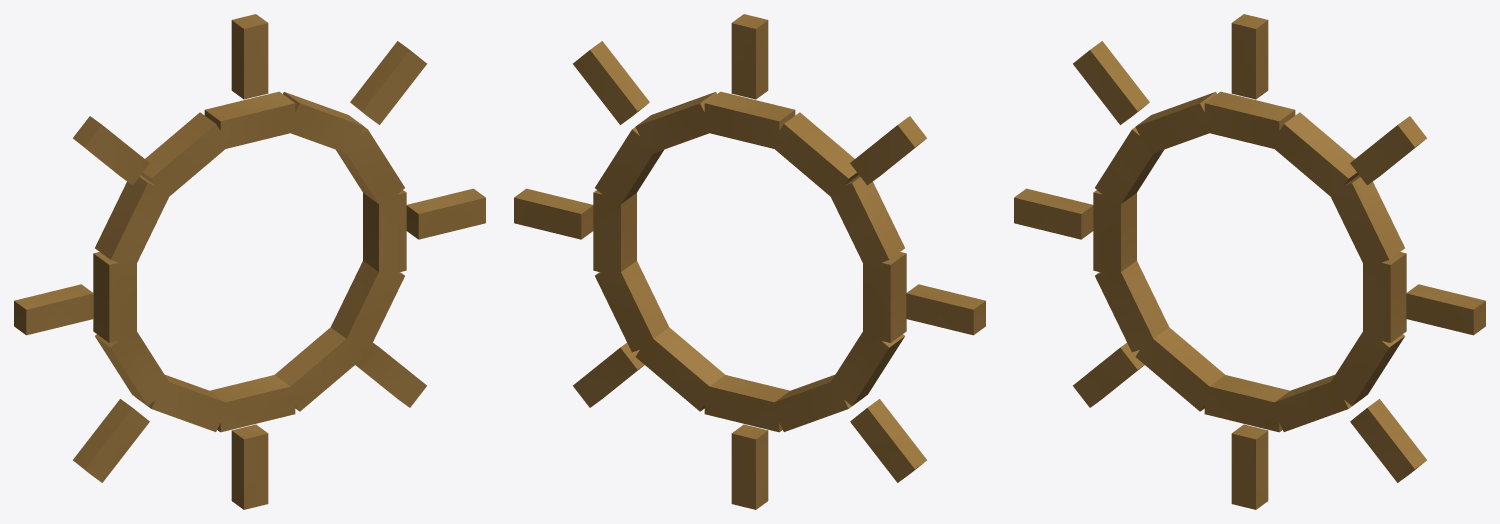
The model's file is emblem.obj.
3 renders of one model, left to right at view 1: azimuth 30°, elevation 25°; view 2: azimuth 150°, elevation 25°; view 3: azimuth 330°, elevation 25°, orthographic.
Parts seen in each view (by area): view 1: emblem; view 2: emblem; view 3: emblem.
Part boxes in pixels (x1,y1,x2,y2): emblem: (14,14,485,509); emblem: (514,14,985,509); emblem: (1014,14,1485,509).
Size of the model in its own units: 0.75 by 0.75 by 0.045.
1 material, 1 textured.
